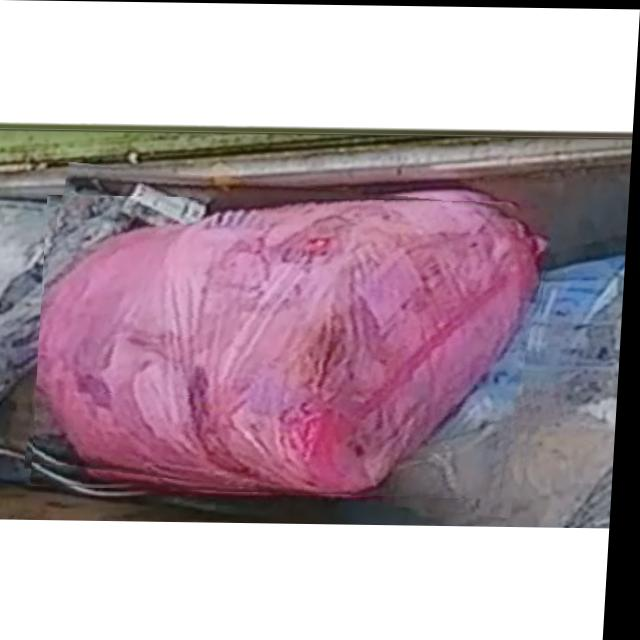other_trashbag: (41, 199, 552, 494)
